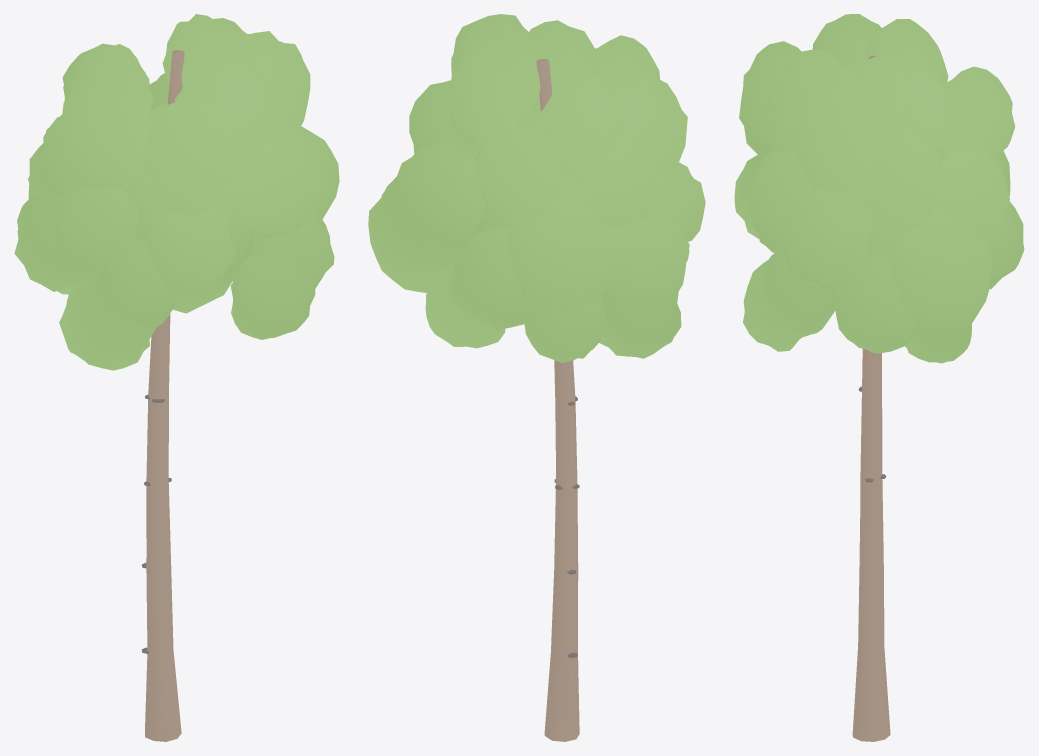
Rendered from Blender_Aspen_2.glb.
3 views of the same model, side by side, from view 1: azimuth 30°, elevation 25°; view 2: azimuth 150°, elevation 25°; view 3: azimuth 270°, elevation 25° (orthographic). The views are drawn at different scales.
Parts seen in each view (by area): view 1: Blender_Aspen_2; view 2: Blender_Aspen_2; view 3: Blender_Aspen_2.
Boxes of the visible parts, box(x1,y1,x2,y2) form: Blender_Aspen_2: box(14, 14, 339, 741); Blender_Aspen_2: box(368, 14, 705, 741); Blender_Aspen_2: box(734, 14, 1024, 741).
Size of the model in its own units: 5.44 by 12.53 by 4.69.
